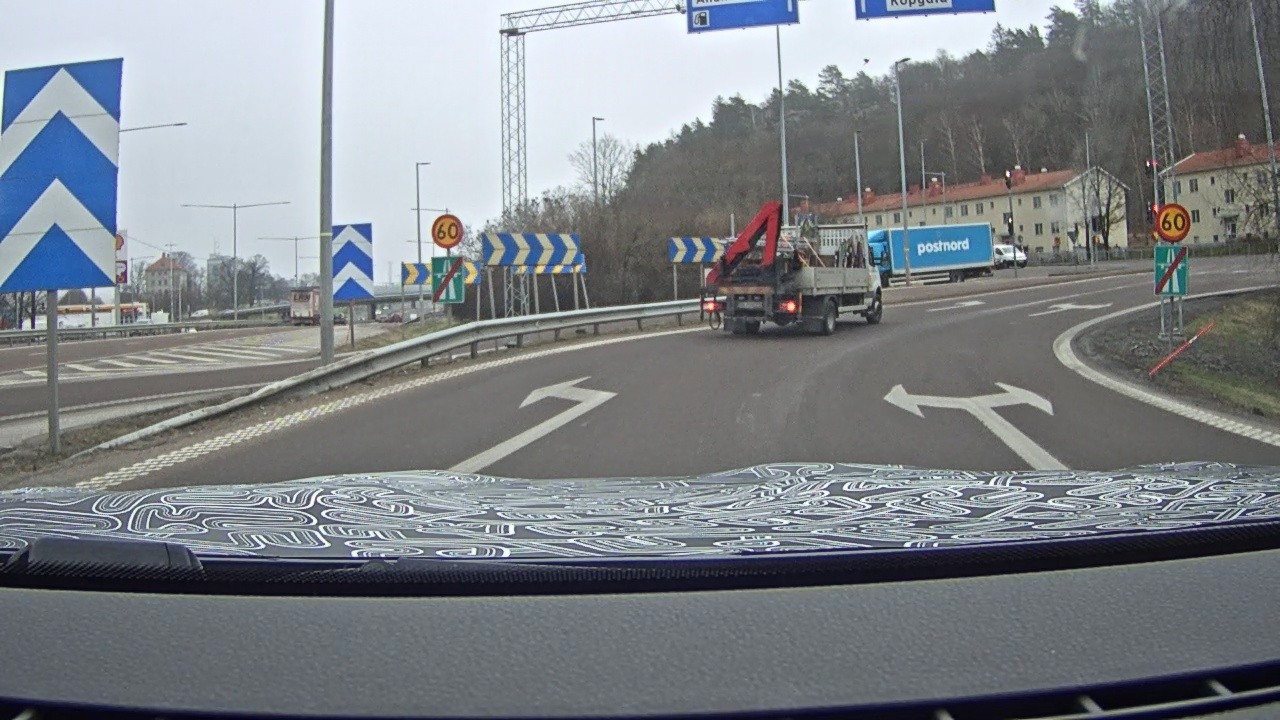Regular_End_Of_Motorway: (432, 257, 464, 302)
